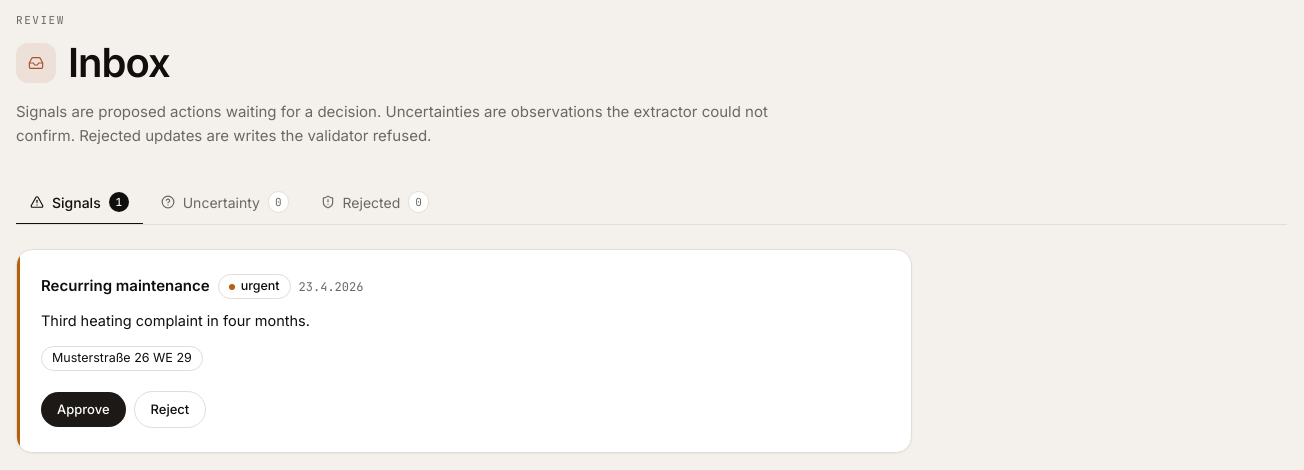
Inbox › approves a signal through the API and refreshes the list
Step 1. Click the button "Approve" → (83, 410), box [41,392,126,427]
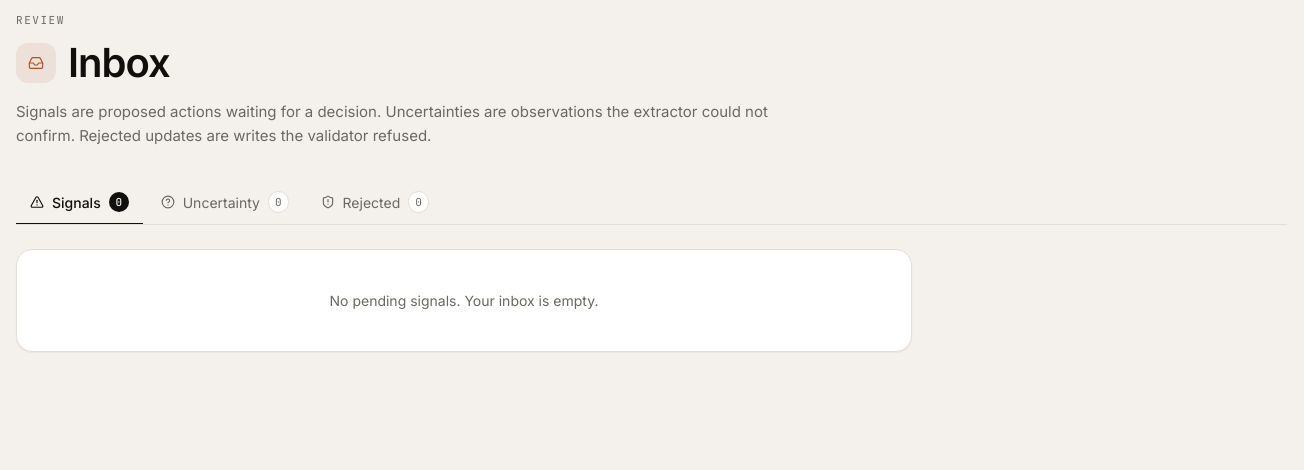
Check: the text "No pending signals. Your inbox is empty." is shown, box [330,292,598,309]
